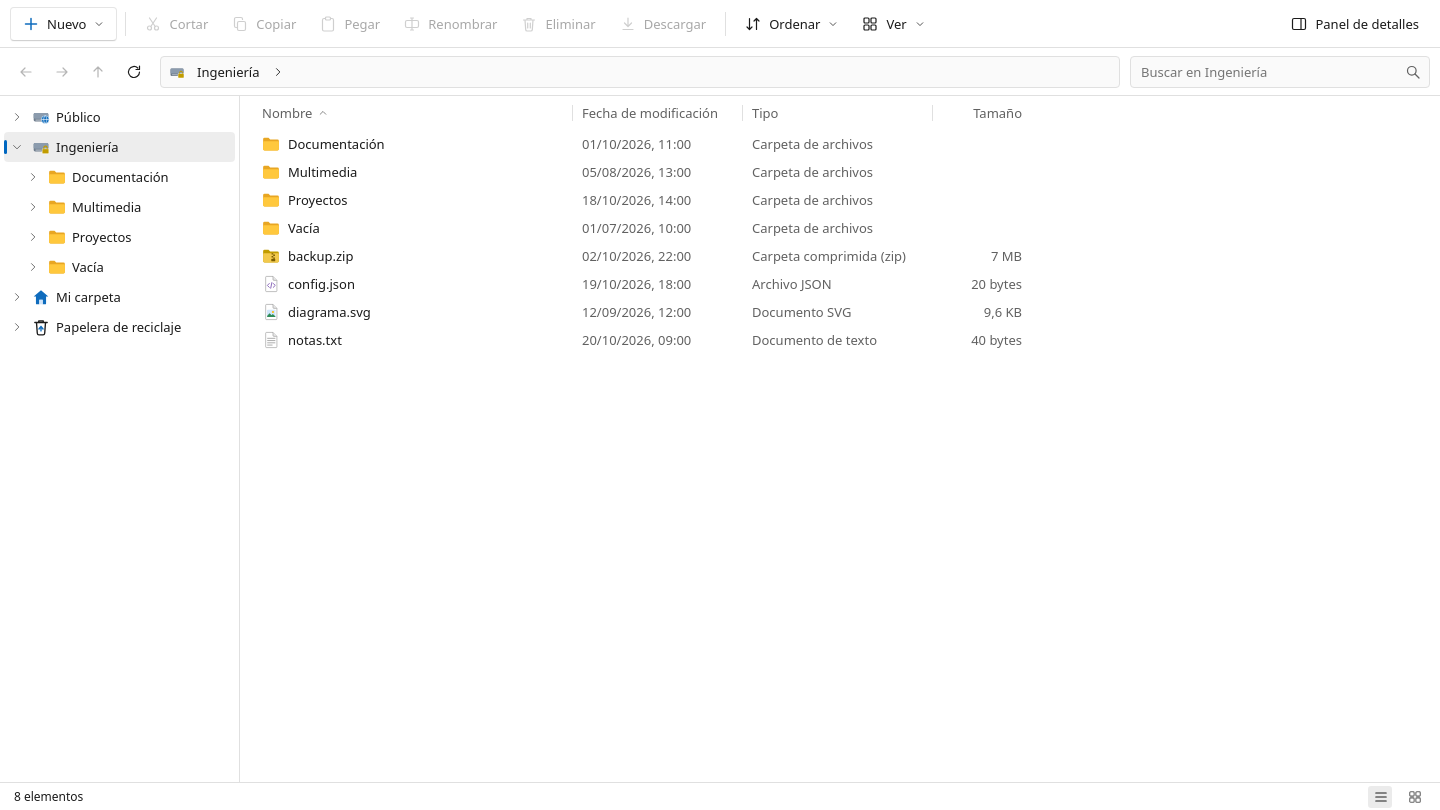
Scenario: Explorer: clipboard and conflicts › cut + paste moves the item and clears the clipboard
Click the option "config.json": (642, 284) x1=262 y1=275 x2=1022 y2=293
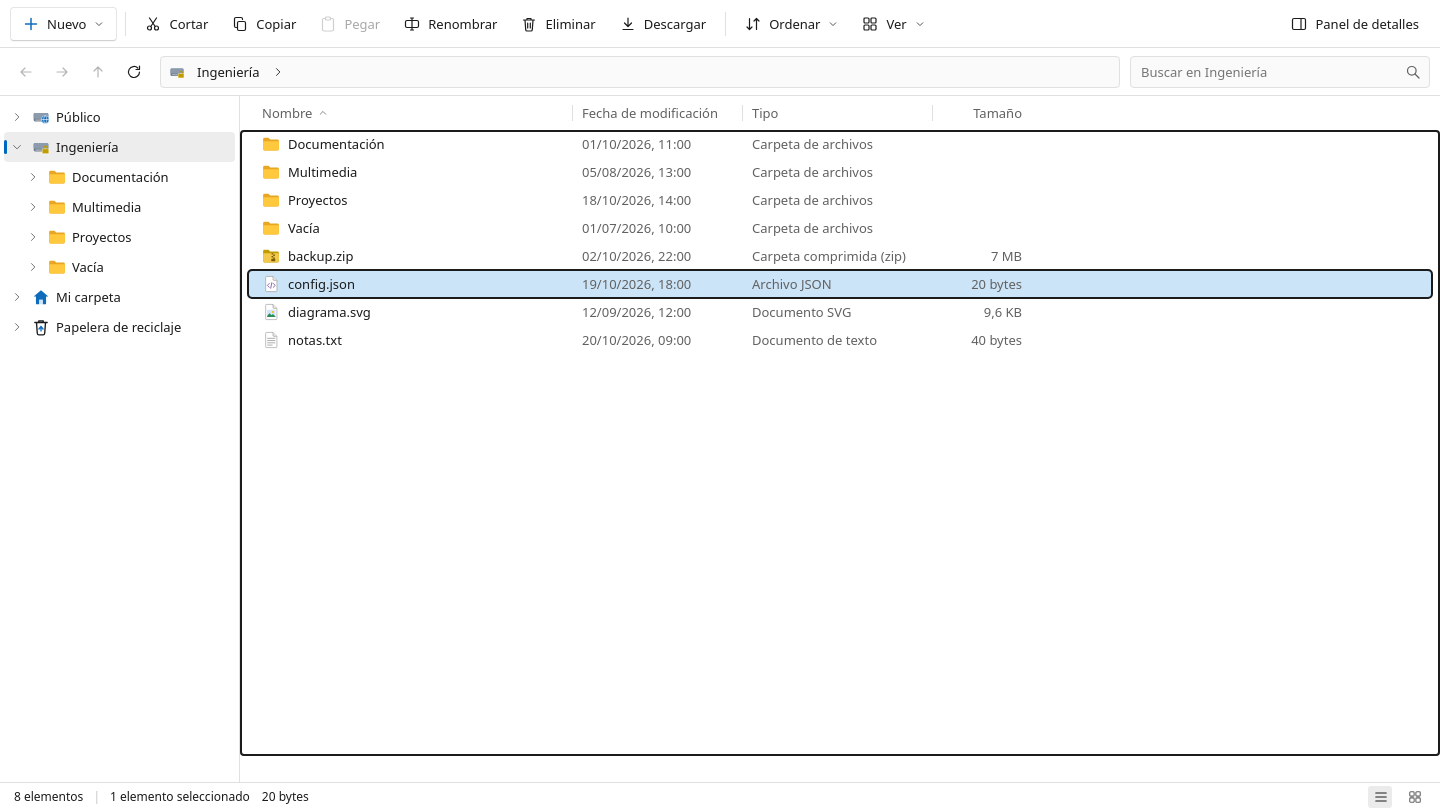
Click the button "Cortar": (177, 24) x1=134 y1=6 x2=219 y2=40
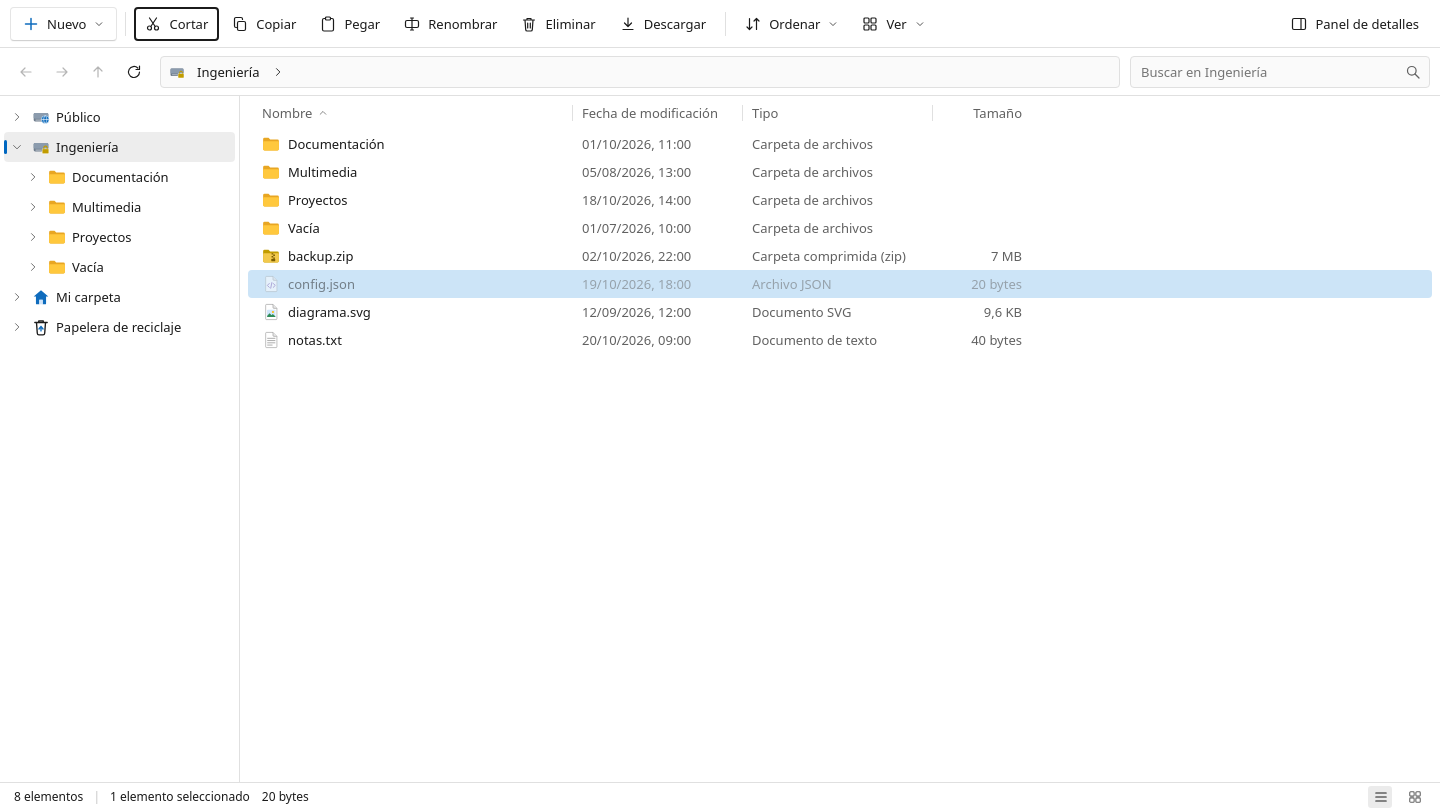
Expected: the option "config.json" has class "is-cut", x1=248 y1=270 x2=1432 y2=298
Double-click the option "Vacía": (304, 228) x1=262 y1=219 x2=873 y2=237
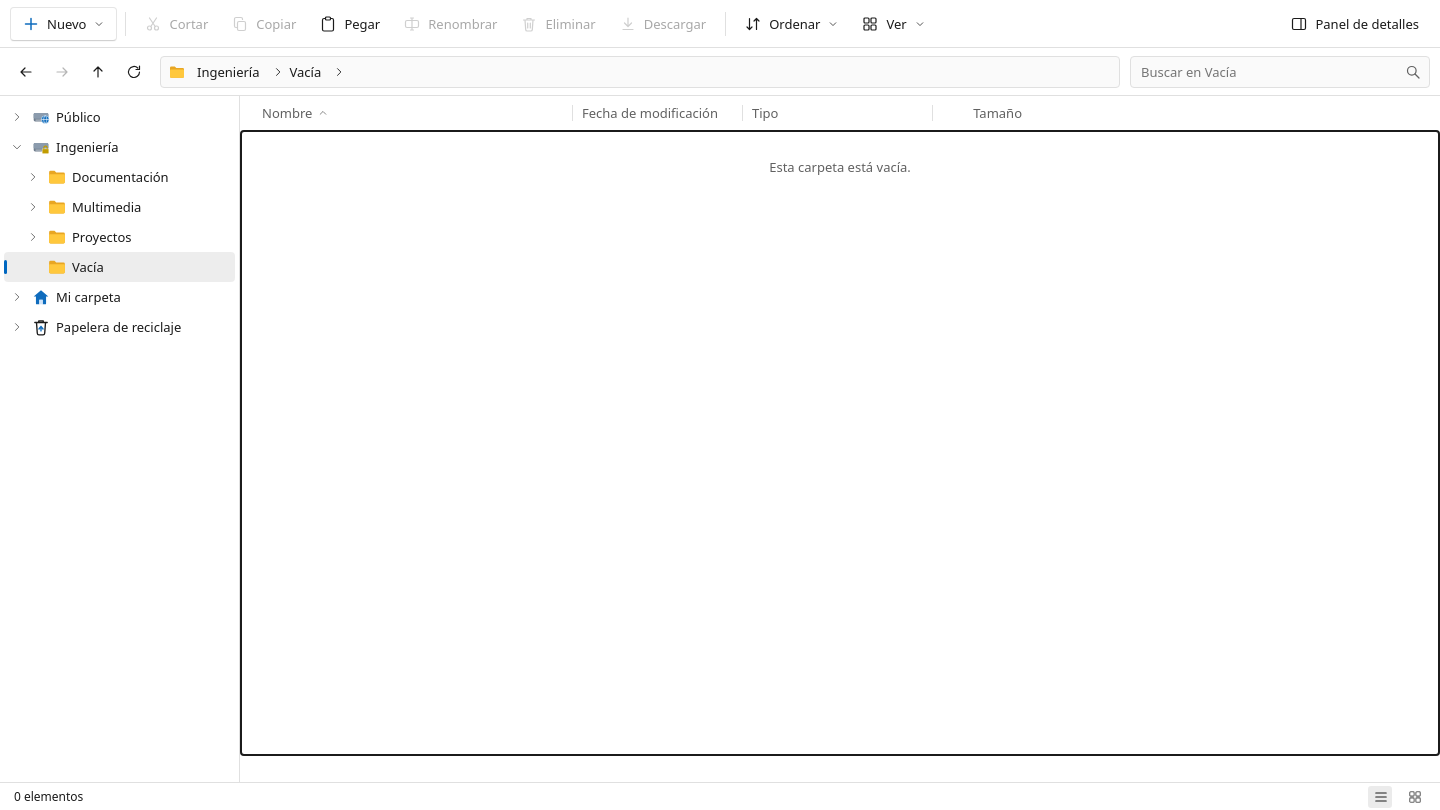
Expected: the text "Esta carpeta está vacía." is shown, x1=769 y1=158 x2=911 y2=176
Click the button "Pegar": (350, 24) x1=309 y1=6 x2=391 y2=40
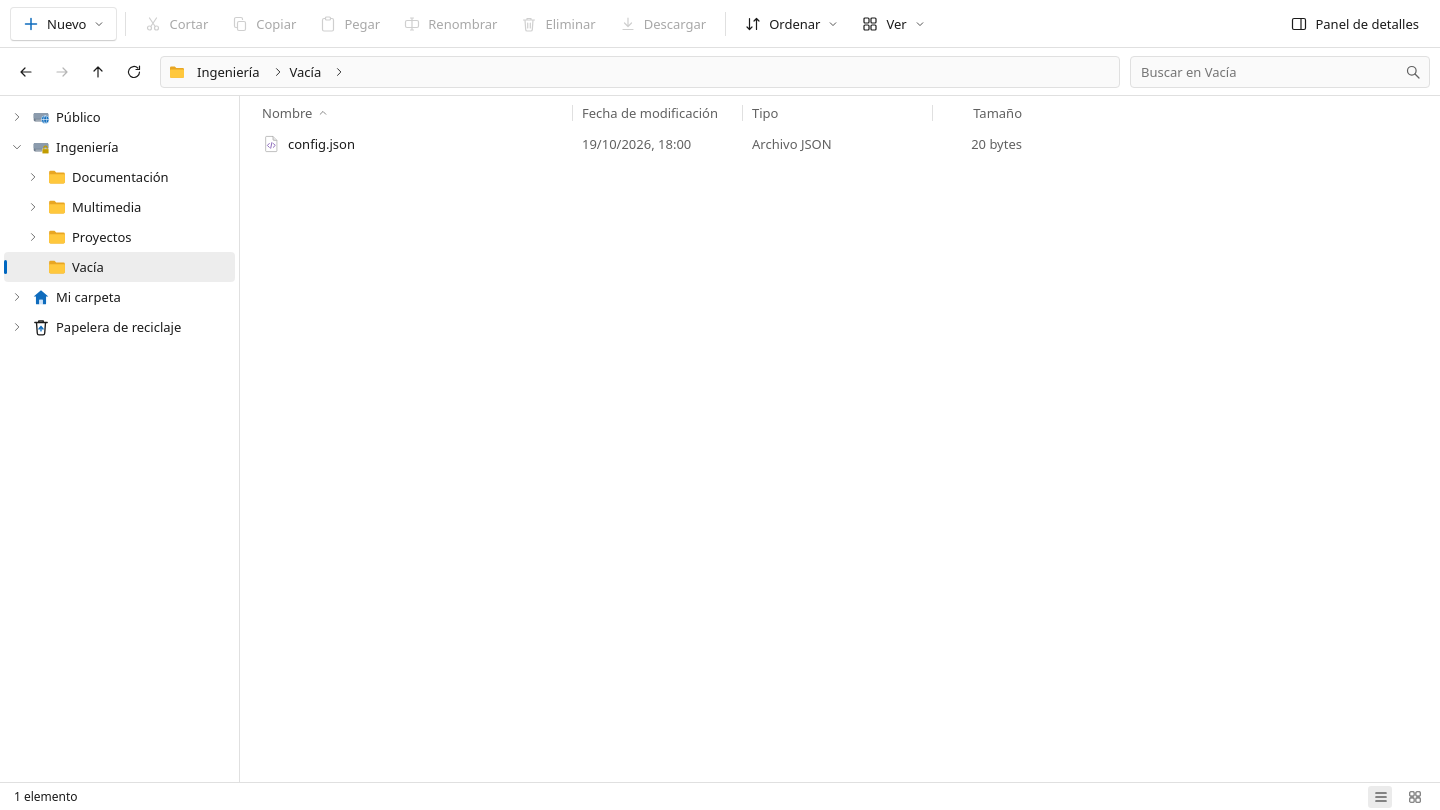
Expected: the option "config.json" is shown, x1=262 y1=135 x2=1022 y2=153
Click the button named "Atrás": (26, 72) x1=10 y1=56 x2=42 y2=88
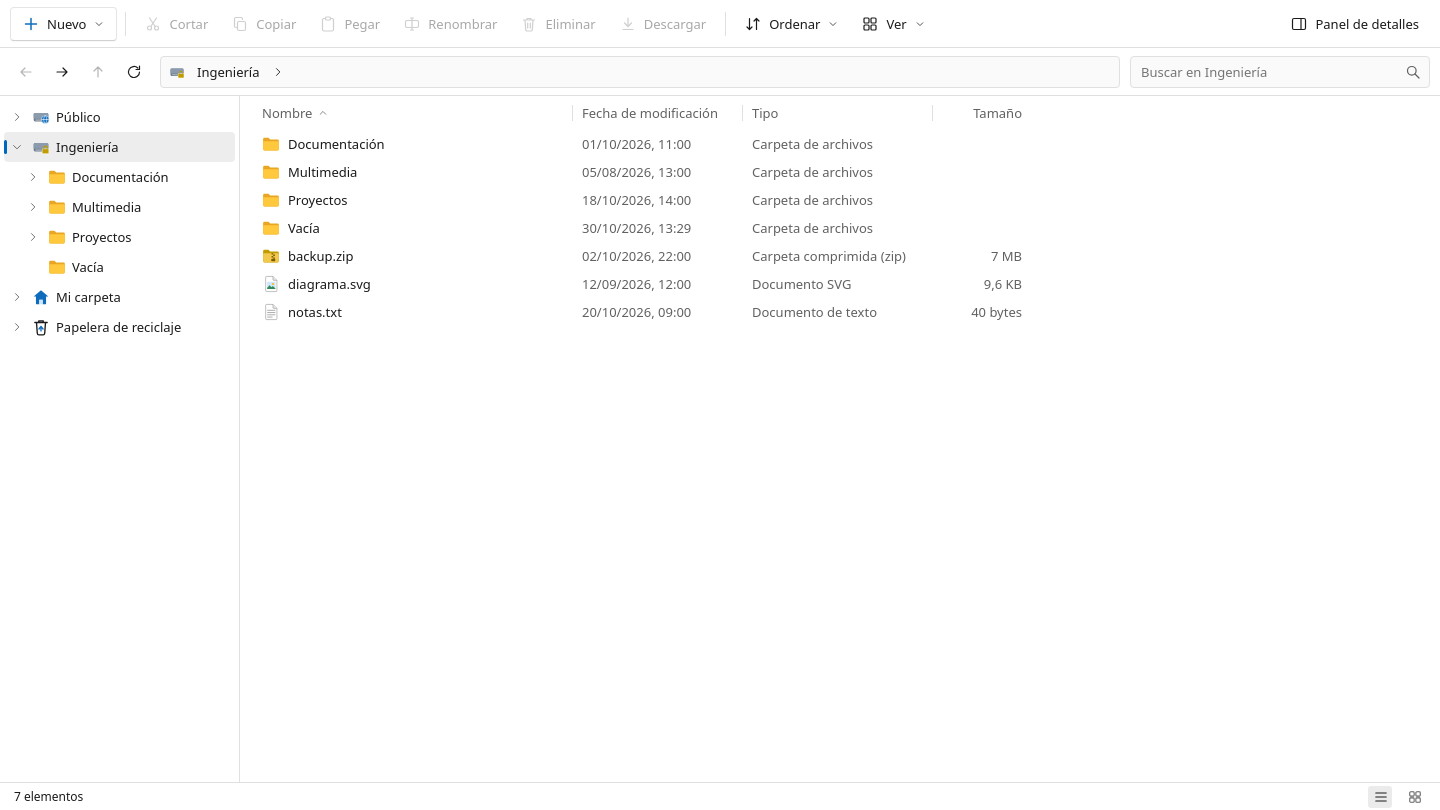
Expected: the option "config.json" is gone
